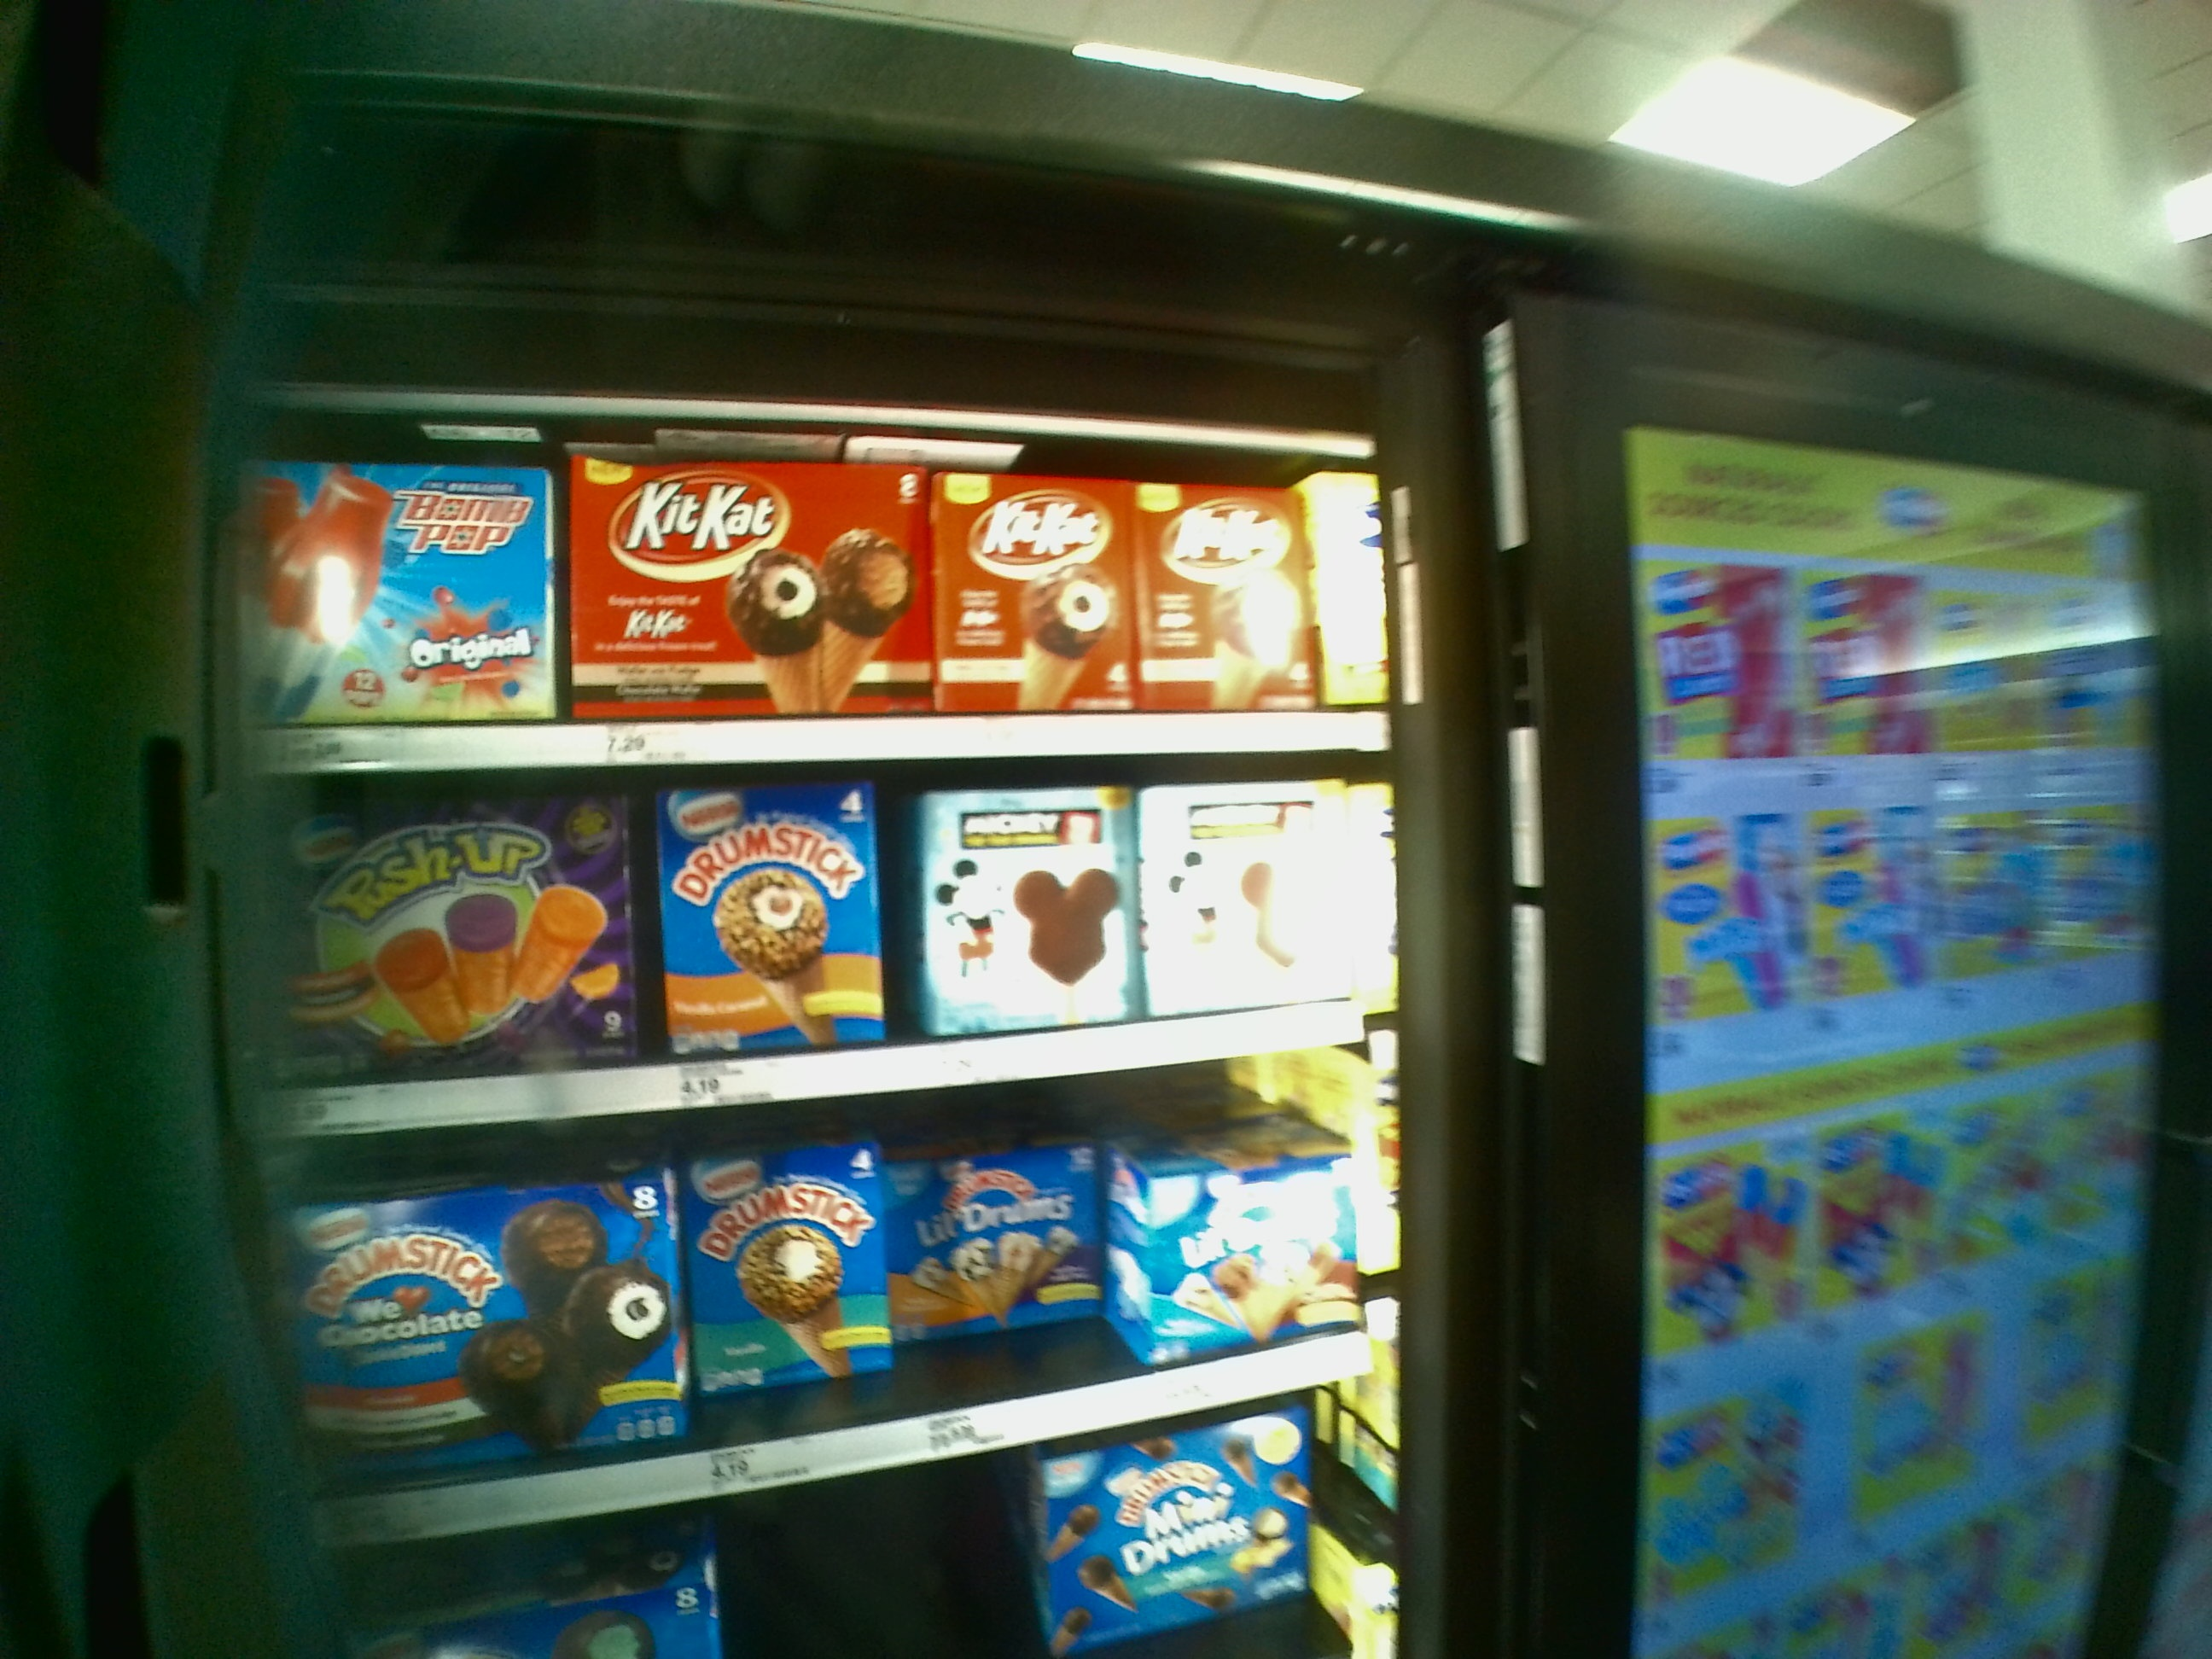shelf: (291, 1101, 1399, 1488), (237, 403, 1400, 767), (261, 781, 1385, 1127)
